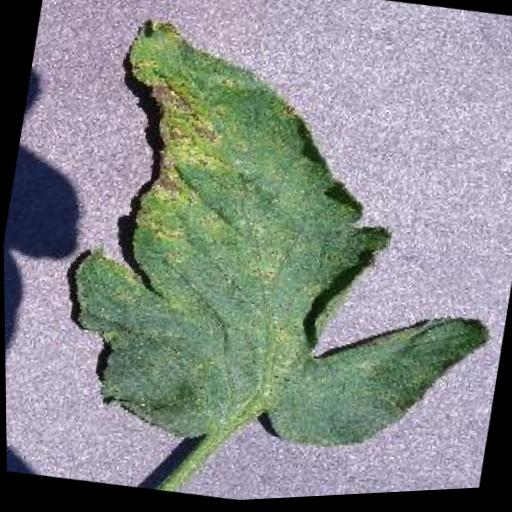Septoria: (42, 1, 512, 493)
